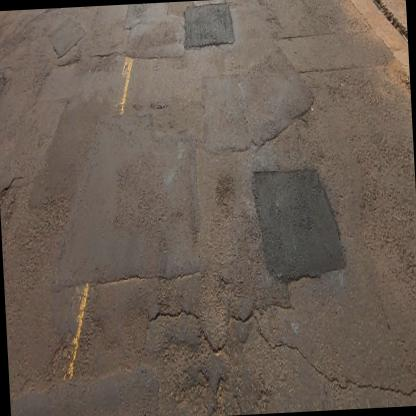manholes: (0, 59, 15, 119)
